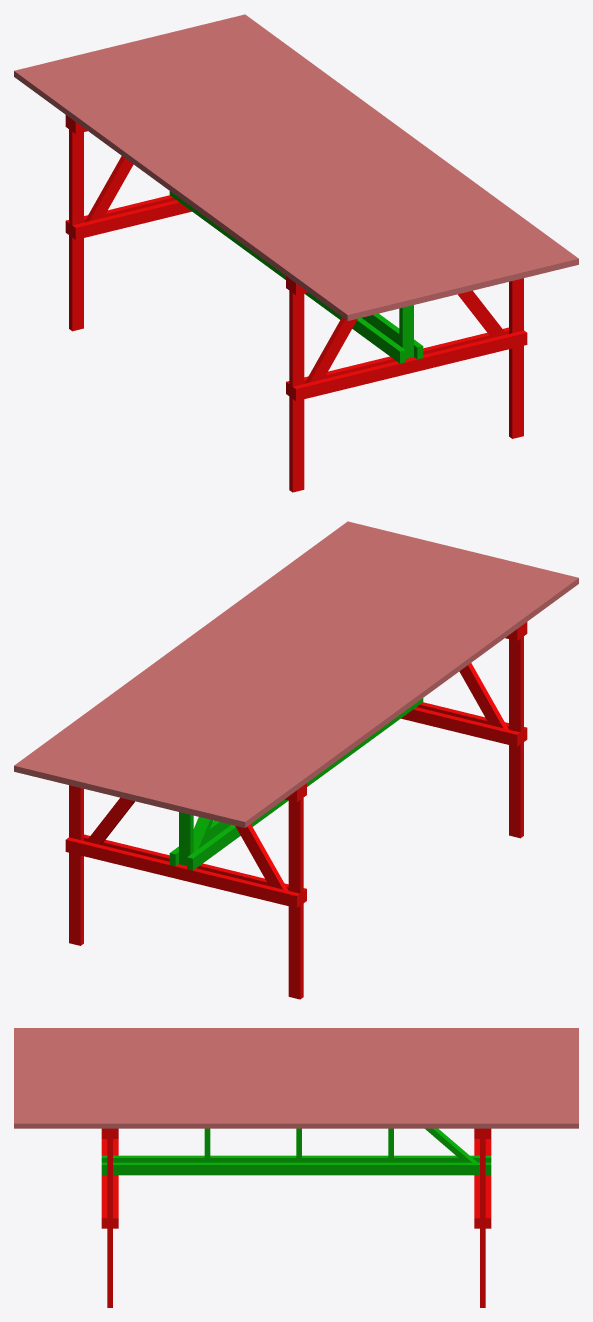
Rendered from result.glb.
The picture shows the model from 3 angles, top to bottom: view 1: azimuth 30°, elevation 25°; view 2: azimuth 150°, elevation 25°; view 3: azimuth 270°, elevation 25°; orthographic projection. The views are drawn at different scales.
Visible parts, largest first — view 1: 819f0bc6-7fdb-41d0-b446-392a4d803675__Box, 1d48e657-a21b-4412-aba5-d25ec2ae9a68__undefined, 5c7d8ba0-5bc4-4eae-9528-1fafb907790e__undefined, 99f3e82d-0a60-4529-ac86-0d45f285c32f__undefined, 53227324-8899-4430-a6e3-4f231ebc09c3__undefined, f665dcc1-d2bc-4009-a166-b93730b4c016__undefined, 66fab719-a208-40de-b782-35d8cd11c8e0__undefined, 1fd8dca1-f0f8-4d6f-8c85-129dd215dd8f__undefined, d261a13b-f28d-4a81-b32d-0893a2d1dfb0__undefined, 55bd9696-6a2e-483c-bfd4-4f23a43265f5__undefined, 9c371f90-8a1f-45b5-b122-79ab671f20c8__undefined, 09465ac2-a073-414b-a955-b8833b066f78__undefined (+20 smaller); view 2: 819f0bc6-7fdb-41d0-b446-392a4d803675__Box, 1d48e657-a21b-4412-aba5-d25ec2ae9a68__undefined, 5c7d8ba0-5bc4-4eae-9528-1fafb907790e__undefined, 99f3e82d-0a60-4529-ac86-0d45f285c32f__undefined, 53227324-8899-4430-a6e3-4f231ebc09c3__undefined, f665dcc1-d2bc-4009-a166-b93730b4c016__undefined, 66fab719-a208-40de-b782-35d8cd11c8e0__undefined, 1fd8dca1-f0f8-4d6f-8c85-129dd215dd8f__undefined, d261a13b-f28d-4a81-b32d-0893a2d1dfb0__undefined, 55bd9696-6a2e-483c-bfd4-4f23a43265f5__undefined, 9c371f90-8a1f-45b5-b122-79ab671f20c8__undefined, 09465ac2-a073-414b-a955-b8833b066f78__undefined (+19 smaller); view 3: 66fab719-a208-40de-b782-35d8cd11c8e0__undefined, ea05ea89-56f8-421b-aeb7-bb9d63910d62__strutH, 1c6663a5-b036-46ff-9931-49eccaec927e__undefined, 1fd8dca1-f0f8-4d6f-8c85-129dd215dd8f__undefined, 36dc75f1-5734-4883-b898-b791e418128d__undefined, 1d48e657-a21b-4412-aba5-d25ec2ae9a68__undefined, ceeaceae-20b6-451b-9eea-282874427e62__undefined, dd60ec47-6805-45a9-adf2-32329dba3c71__undefined, f665dcc1-d2bc-4009-a166-b93730b4c016__undefined, 53227324-8899-4430-a6e3-4f231ebc09c3__undefined, 819f0bc6-7fdb-41d0-b446-392a4d803675__Box, 3cf7d91e-cc05-487b-ab25-622fc1a8c5b4__undefined (+17 smaller).
Boxes of the visible parts, x1,y1,x2,y2 form: 819f0bc6-7fdb-41d0-b446-392a4d803675__Box: [14, 68, 359, 320]; 1d48e657-a21b-4412-aba5-d25ec2ae9a68__undefined: [95, 48, 440, 301]; 5c7d8ba0-5bc4-4eae-9528-1fafb907790e__undefined: [118, 42, 463, 295]; 99f3e82d-0a60-4529-ac86-0d45f285c32f__undefined: [176, 28, 521, 281]; 53227324-8899-4430-a6e3-4f231ebc09c3__undefined: [199, 23, 544, 275]; f665dcc1-d2bc-4009-a166-b93730b4c016__undefined: [187, 25, 532, 278]; 66fab719-a208-40de-b782-35d8cd11c8e0__undefined: [234, 14, 578, 267]; 1fd8dca1-f0f8-4d6f-8c85-129dd215dd8f__undefined: [49, 59, 393, 312]; d261a13b-f28d-4a81-b32d-0893a2d1dfb0__undefined: [60, 56, 405, 309]; 55bd9696-6a2e-483c-bfd4-4f23a43265f5__undefined: [72, 54, 416, 306]; 9c371f90-8a1f-45b5-b122-79ab671f20c8__undefined: [107, 45, 451, 298]; 09465ac2-a073-414b-a955-b8833b066f78__undefined: [164, 31, 509, 284]; 819f0bc6-7fdb-41d0-b446-392a4d803675__Box: [233, 575, 578, 827]; 1d48e657-a21b-4412-aba5-d25ec2ae9a68__undefined: [152, 555, 497, 808]; 5c7d8ba0-5bc4-4eae-9528-1fafb907790e__undefined: [129, 549, 474, 802]; 99f3e82d-0a60-4529-ac86-0d45f285c32f__undefined: [71, 535, 416, 788]; 53227324-8899-4430-a6e3-4f231ebc09c3__undefined: [48, 530, 393, 782]; f665dcc1-d2bc-4009-a166-b93730b4c016__undefined: [60, 532, 405, 785]; 66fab719-a208-40de-b782-35d8cd11c8e0__undefined: [14, 521, 358, 774]; 1fd8dca1-f0f8-4d6f-8c85-129dd215dd8f__undefined: [199, 566, 543, 819]; d261a13b-f28d-4a81-b32d-0893a2d1dfb0__undefined: [187, 563, 532, 816]; 55bd9696-6a2e-483c-bfd4-4f23a43265f5__undefined: [176, 561, 520, 813]; 9c371f90-8a1f-45b5-b122-79ab671f20c8__undefined: [141, 552, 485, 805]; 09465ac2-a073-414b-a955-b8833b066f78__undefined: [83, 538, 428, 791]; 66fab719-a208-40de-b782-35d8cd11c8e0__undefined: [14, 1118, 578, 1128]; ea05ea89-56f8-421b-aeb7-bb9d63910d62__strutH: [101, 1162, 491, 1175]; 1c6663a5-b036-46ff-9931-49eccaec927e__undefined: [14, 1037, 578, 1042]; 1fd8dca1-f0f8-4d6f-8c85-129dd215dd8f__undefined: [14, 1042, 578, 1047]; 36dc75f1-5734-4883-b898-b791e418128d__undefined: [14, 1056, 578, 1061]; 1d48e657-a21b-4412-aba5-d25ec2ae9a68__undefined: [14, 1061, 578, 1066]; ceeaceae-20b6-451b-9eea-282874427e62__undefined: [14, 1075, 578, 1080]; dd60ec47-6805-45a9-adf2-32329dba3c71__undefined: [14, 1080, 578, 1085]; f665dcc1-d2bc-4009-a166-b93730b4c016__undefined: [14, 1099, 578, 1104]; 53227324-8899-4430-a6e3-4f231ebc09c3__undefined: [14, 1104, 578, 1109]; 819f0bc6-7fdb-41d0-b446-392a4d803675__Box: [14, 1028, 578, 1032]; 3cf7d91e-cc05-487b-ab25-622fc1a8c5b4__undefined: [14, 1033, 578, 1037].
Bounding box in the file's own units: 800 × 720 × 2000.
